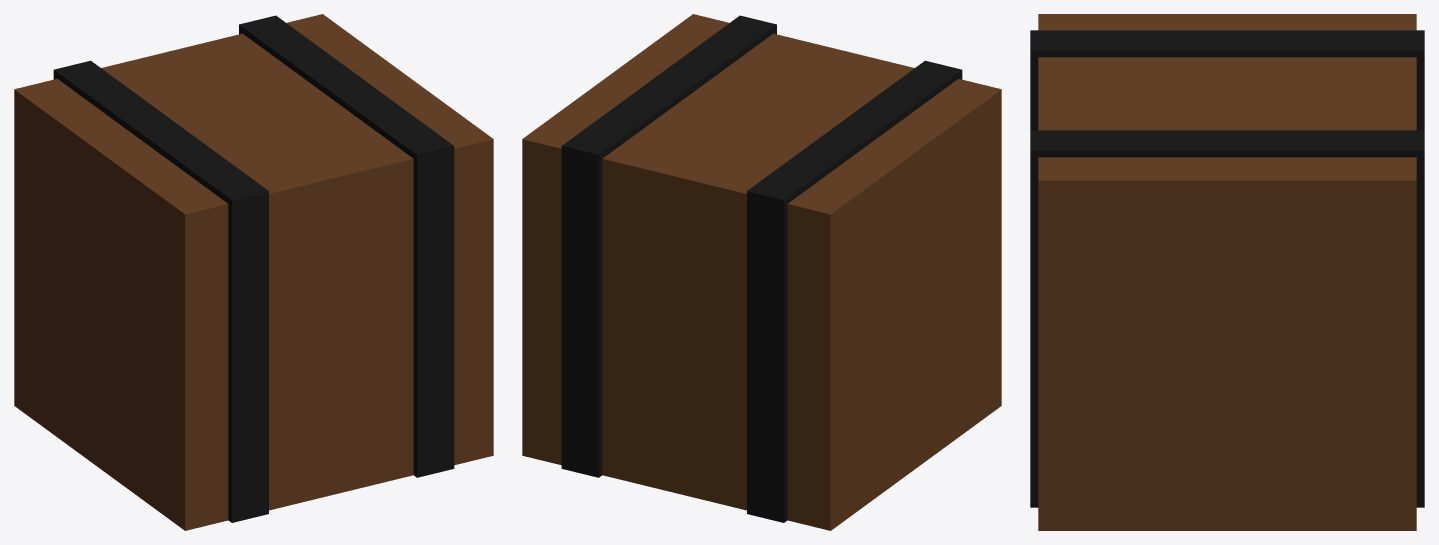
File: supply_crate.glb
3 renders of one model, left to right at view 1: azimuth 30°, elevation 25°; view 2: azimuth 150°, elevation 25°; view 3: azimuth 270°, elevation 25°, orthographic. The views are drawn at different scales.
Parts seen in each view (by area): view 1: SupplyCrate; view 2: SupplyCrate; view 3: SupplyCrate.
Part boxes in pixels (box(x1,y1,x2,y2)): SupplyCrate: box(14, 14, 493, 530); SupplyCrate: box(522, 14, 1001, 530); SupplyCrate: box(1030, 14, 1424, 530).
Size of the model in its own units: 0.5 by 0.5 by 0.5.
